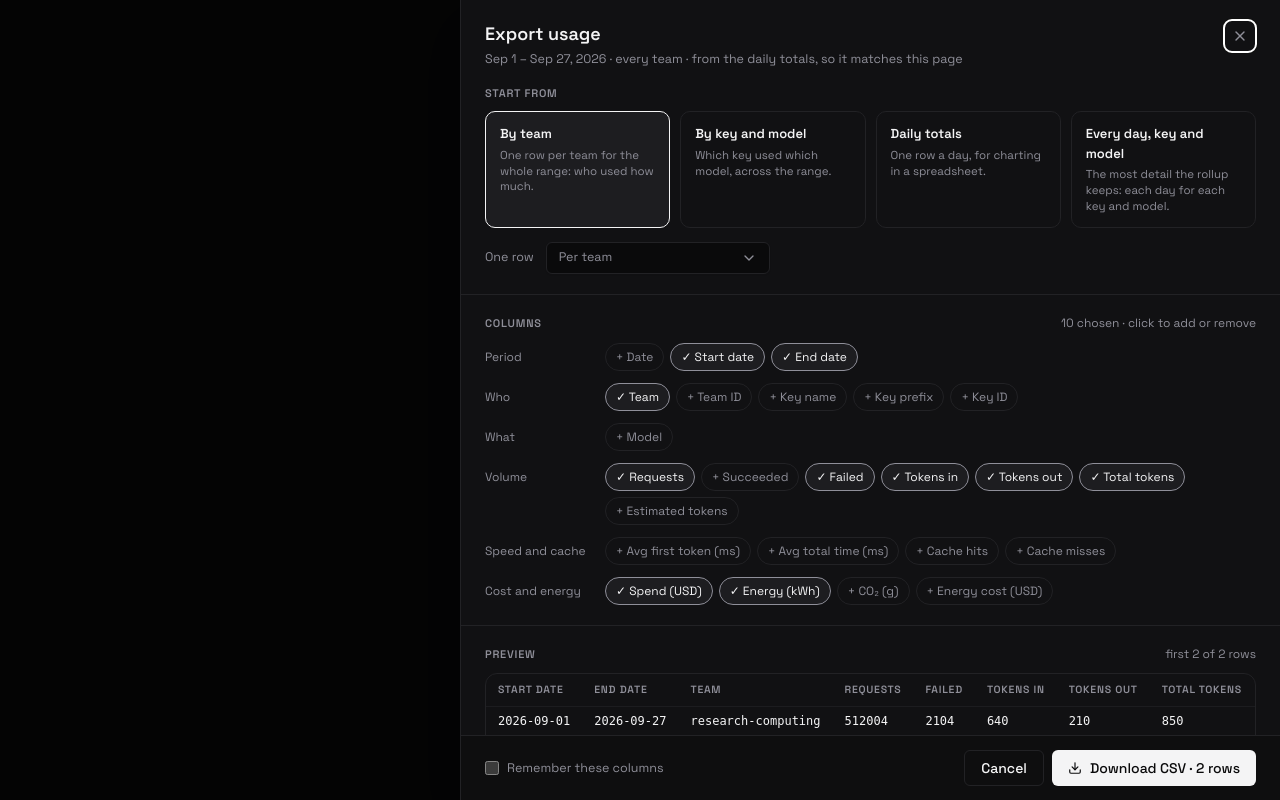
it: exporting usage › switches to the most detailed rows with a preset
The width and height of the screenshot is (1280, 800).
Click the button that starts with "Every day, key and model": (1163, 170) [1071,111,1256,228]
(page scrolled)
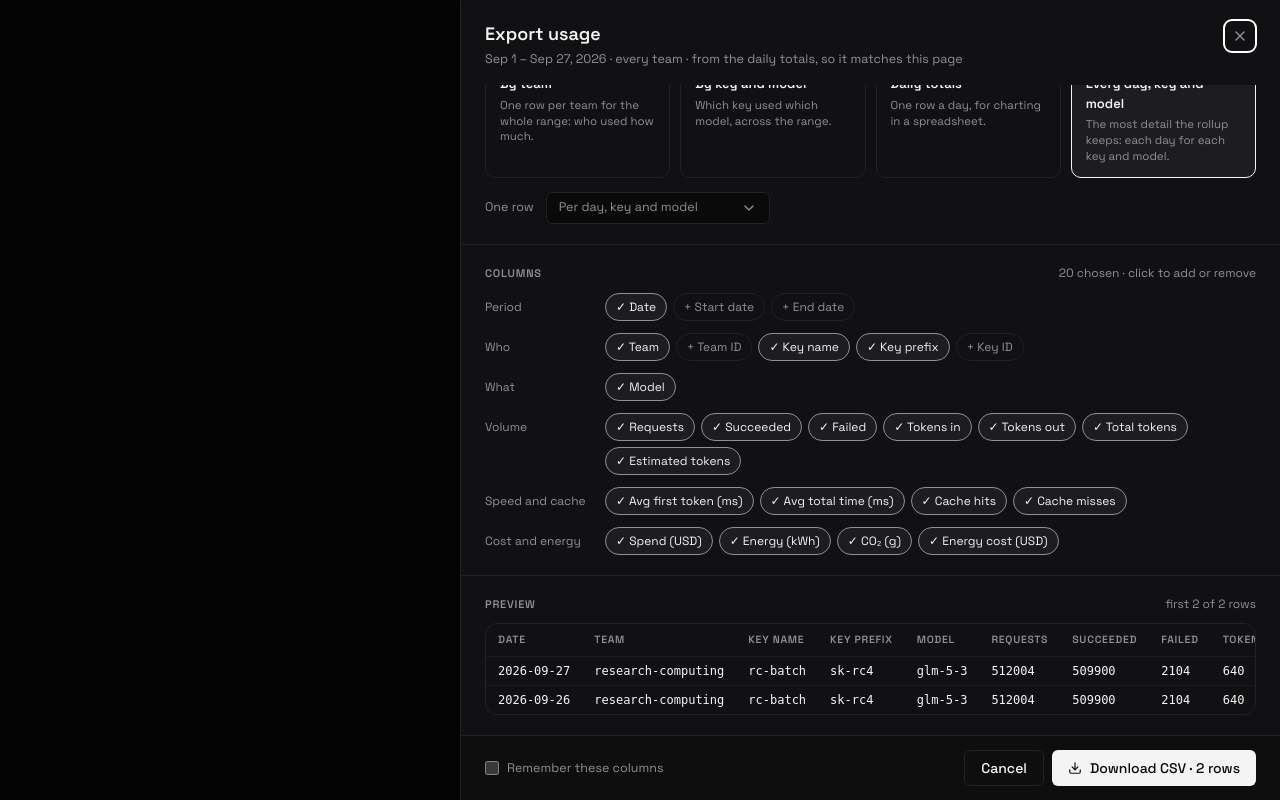
Expected: the 2nd row shows "2026-09-27", [498,664,570,678]
Expected: the 2nd row shows "rc-batch", [748,664,806,678]
Expected: the 2nd row shows "glm-5-3", [917,664,967,678]
